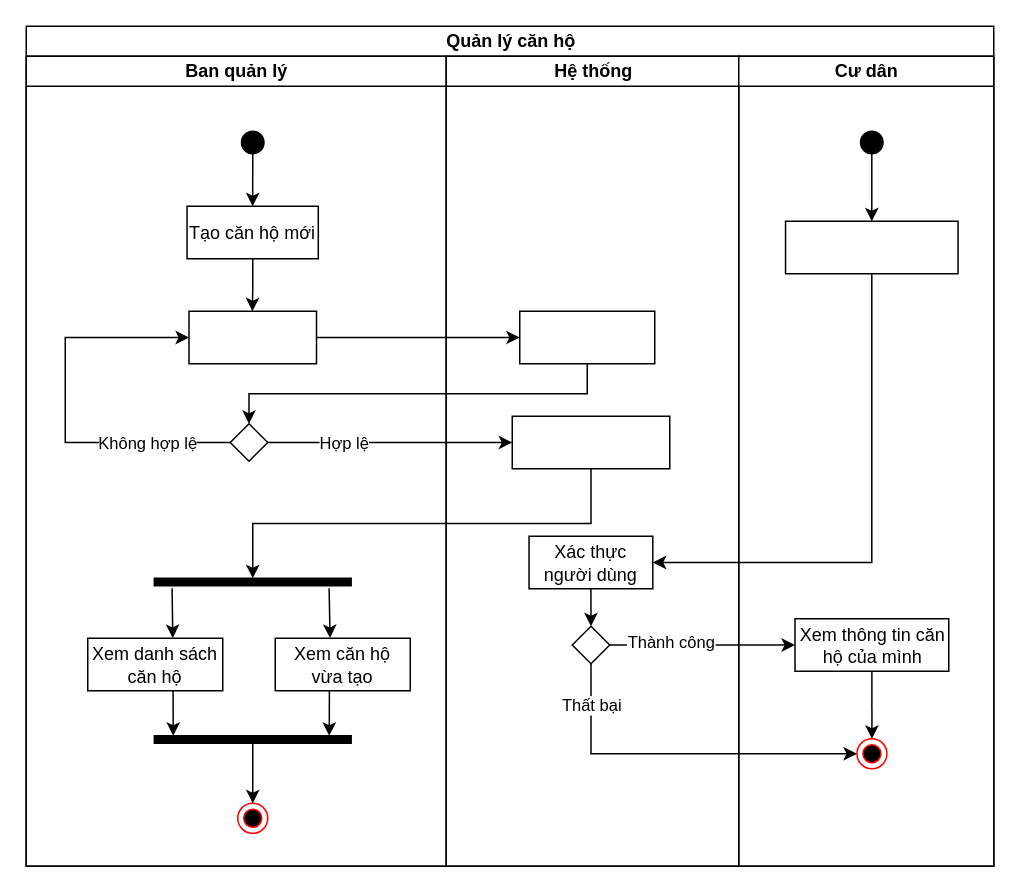
The diagram is 1020 pixels wide and 893 high, and some of its shapes have lost their labels. Each missing label, with the centre of its shape:
"Kiểm tra thông tin cư dân" belongs at [586,337].
"Nhập thông tin căn hộ" belongs at [252,337].
"Truy cập hồ sơ căn hộ gia đình mình" belongs at [871,247].
"Tạo mới, hiển thị danh sách căn hộ" belongs at [590,442].
